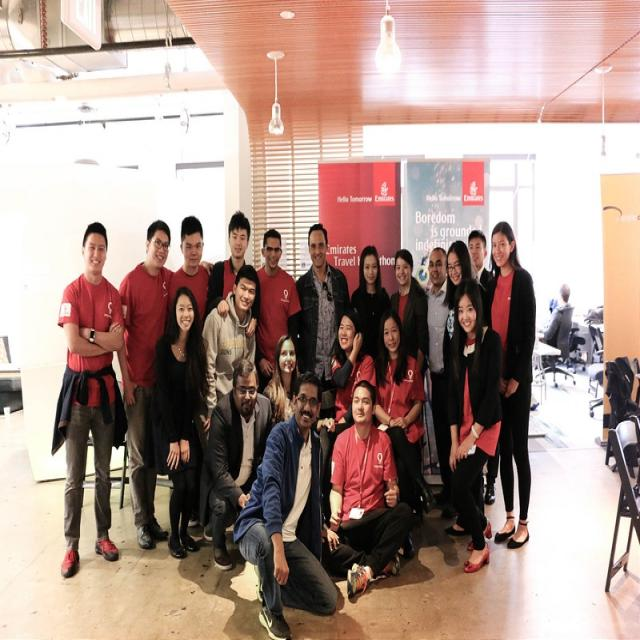body: (117, 220, 215, 552), (231, 369, 341, 639), (49, 220, 125, 579), (314, 375, 414, 599), (477, 218, 536, 549), (442, 277, 502, 573), (147, 283, 207, 558), (166, 214, 217, 528), (373, 309, 435, 560), (206, 357, 273, 572), (318, 306, 377, 525), (290, 221, 352, 417), (200, 264, 258, 444), (423, 246, 459, 520), (466, 228, 501, 507), (254, 228, 304, 393), (208, 209, 262, 339), (440, 238, 490, 374), (349, 243, 393, 387), (390, 247, 430, 370), (260, 332, 302, 437), (535, 283, 573, 369)
